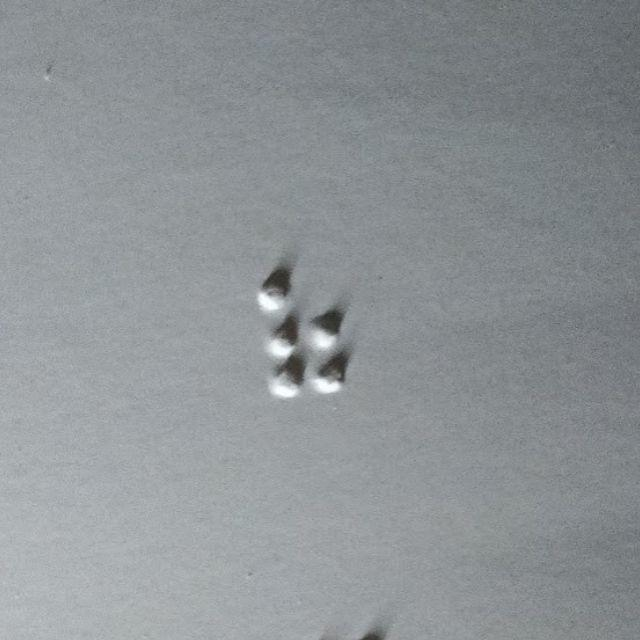han: (260, 266, 348, 396)
